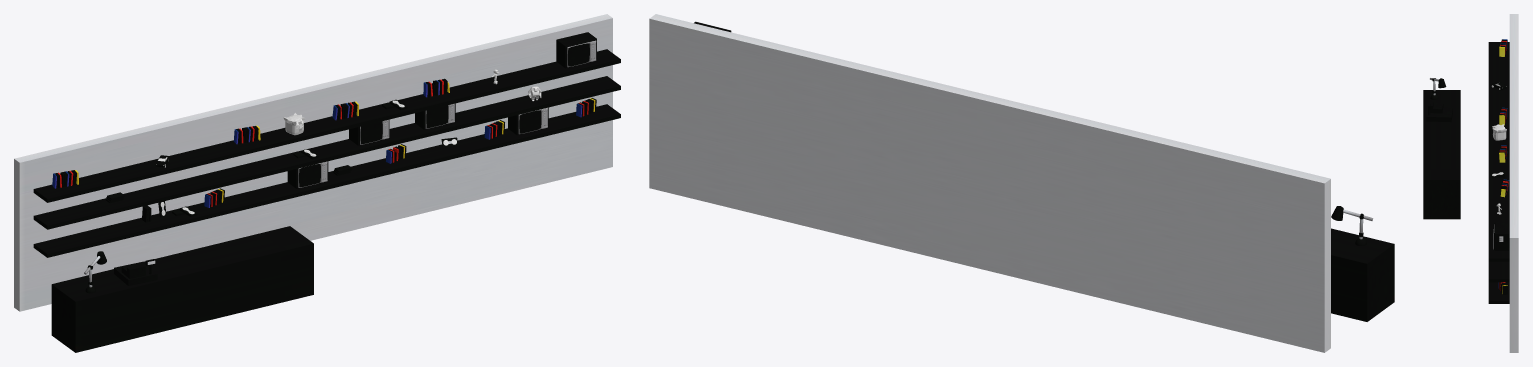
File: бэкграунд.fbx
3 views of the same model, side by side, from view 1: azimuth 30°, elevation 25°; view 2: azimuth 150°, elevation 25°; view 3: azimuth 270°, elevation 25° (orthographic). The views are drawn at different scales.
Parts seen in each view (by area): view 1: Cube, Cube.004, Cube.127, Cube.003, Cube.002, Cube.001; view 2: Cube, Cube.004; view 3: Cube.004, Cube.003, Cube, Cube.127, Cube.001, Cube.002, Cube.007, Cube.133, Cube.008, CAR_Cube.
Part boxes in pixels (left/top/right/bottom): Cube: left=14, top=14, right=612, bottom=311; Cube.004: left=51, top=226, right=313, bottom=352; Cube.127: left=33, top=76, right=620, bottom=229; Cube.003: left=33, top=49, right=620, bottom=202; Cube.002: left=33, top=104, right=620, bottom=257; Cube.001: left=556, top=32, right=596, bottom=67; Cube: left=649, top=14, right=1330, bottom=352; Cube.004: left=1331, top=228, right=1394, bottom=321; Cube.004: left=1423, top=90, right=1460, bottom=219; Cube.003: left=1488, top=42, right=1509, bottom=261; Cube: left=1509, top=14, right=1518, bottom=352; Cube.127: left=1488, top=261, right=1509, bottom=282; Cube.001: left=1495, top=222, right=1509, bottom=250; Cube.002: left=1488, top=282, right=1509, bottom=303; Cube.007: left=1426, top=106, right=1452, bottom=122; Cube.133: left=1492, top=124, right=1506, bottom=140; Cube.008: left=1428, top=100, right=1443, bottom=113; CAR_Cube: left=1491, top=82, right=1506, bottom=90.
Size of the model in its own units: 4836 by 1163 by 868.
